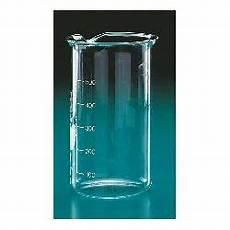Beaker: (63, 28, 157, 200)
